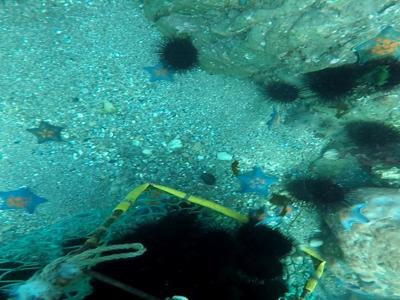urchin: (109, 211, 234, 290), (341, 116, 396, 167), (280, 173, 353, 211), (240, 222, 296, 263), (309, 66, 355, 107), (227, 268, 292, 297), (156, 33, 199, 71), (256, 77, 303, 108)
